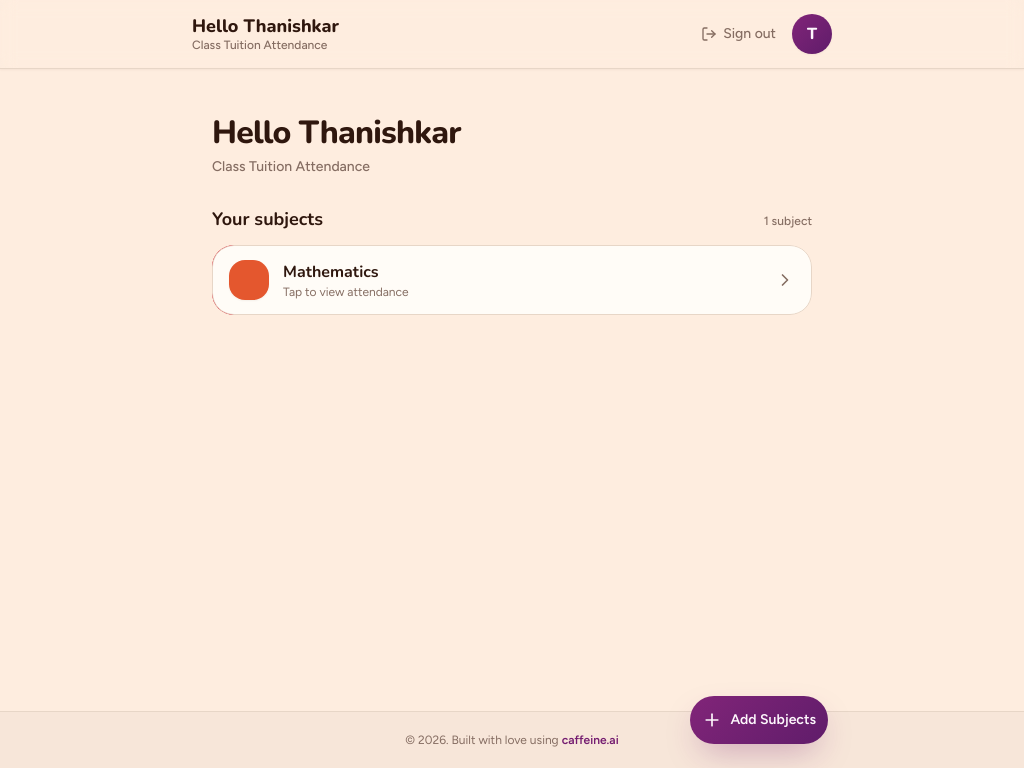
Test: subject attendance detail › lists recorded dates with their Present / Absent / Class Cancelled status
What coordinates should you click on to do the following:
click the link "Mathematics Tap to view attendance"
I would click on:
 (249, 280)
Its box is [212,245,812,315].
(page scrolled)
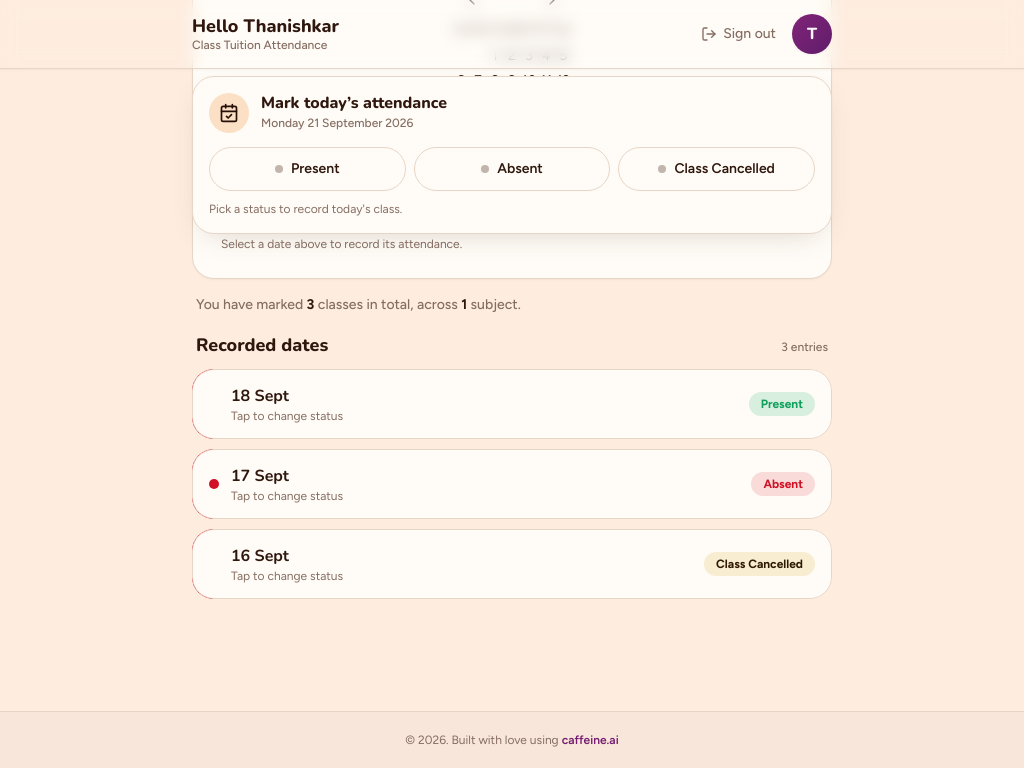
Check: the number of list items is 3, box [192,368,832,438]; [192,448,832,518]; [192,528,832,598]
Check: the text "Present" below "entries" is shown, box [761,396,803,410]
Check: the text "Absent" below "entries" is shown, box [763,476,803,490]
